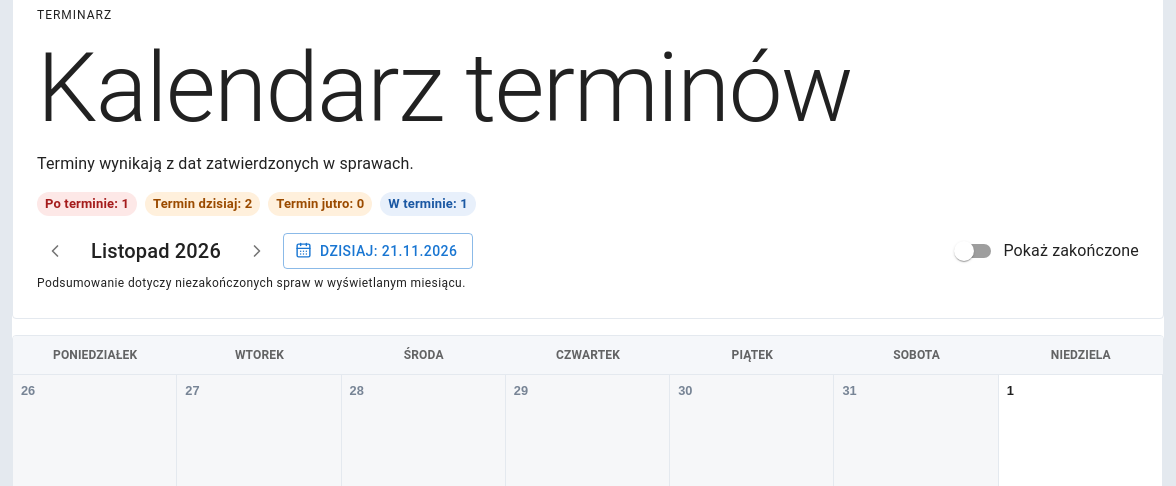
Test: CalendarPage › uses a Monday-aligned grid and moves between months
This screenshot has width=1176, height=486.
Click the button named "Następny miesiąc" at (257, 251), box x1=239 y1=233 x2=275 y2=269
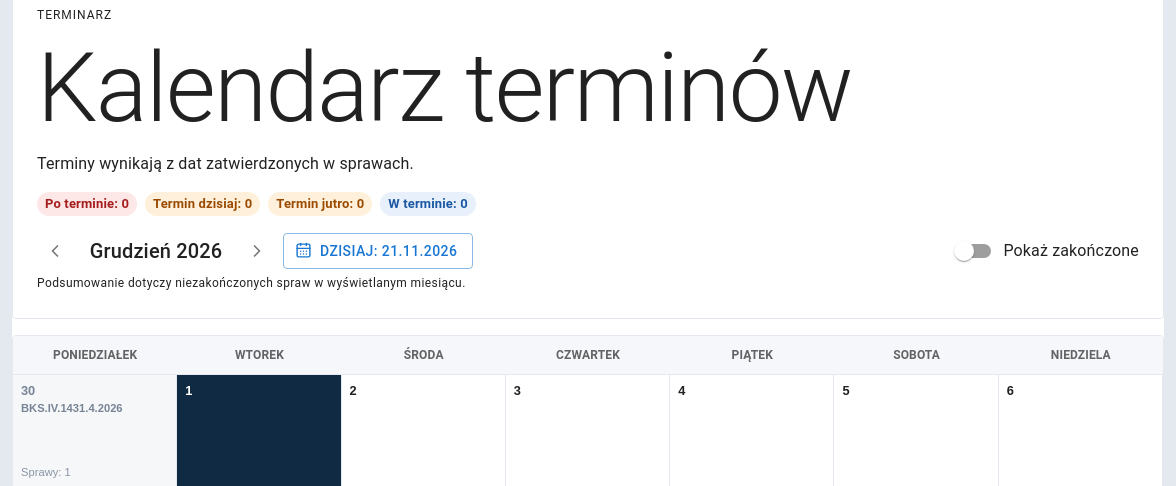
Expected: the heading "grudzień 2026" is shown, x1=81 y1=235 x2=231 y2=267
Click the button named "Poprzedni miesiąc" at (55, 251), box x1=37 y1=233 x2=73 y2=269
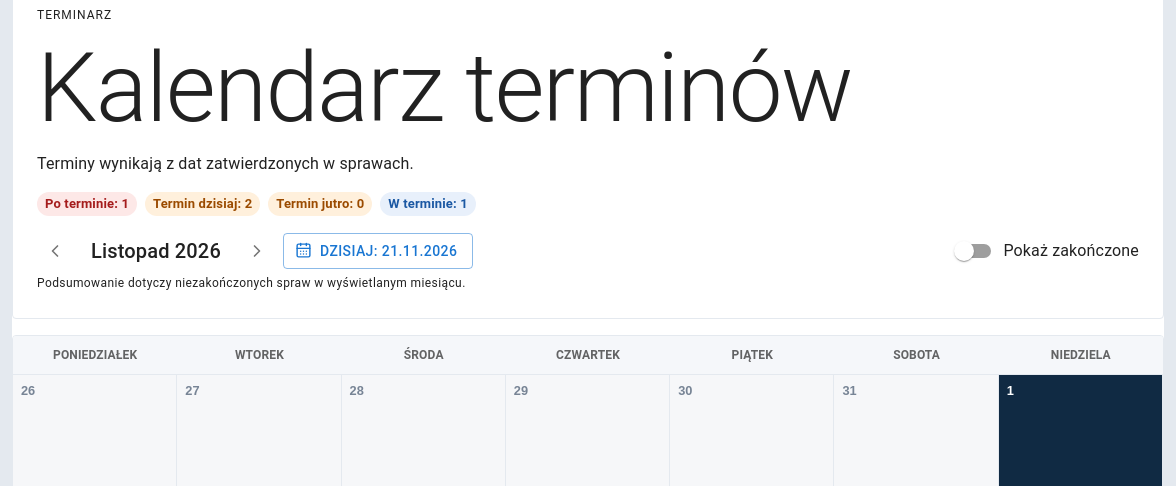
Click the button "Dzisiaj: 21.11.2026" at (378, 251), box x1=283 y1=233 x2=473 y2=269
(page scrolled)
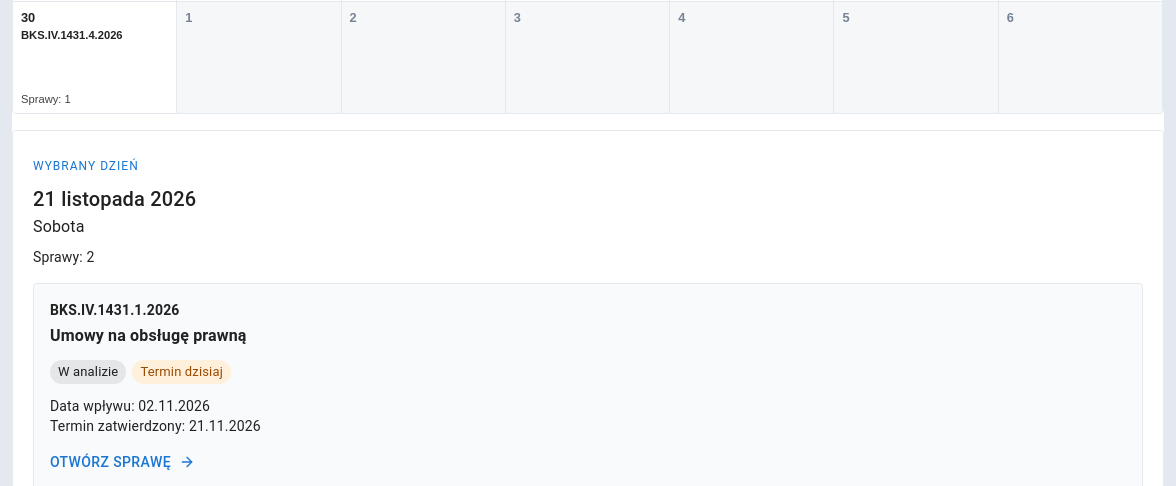
Expected: the text "Umowy na obsługę prawną" is shown, x1=50 y1=326 x2=247 y2=345
